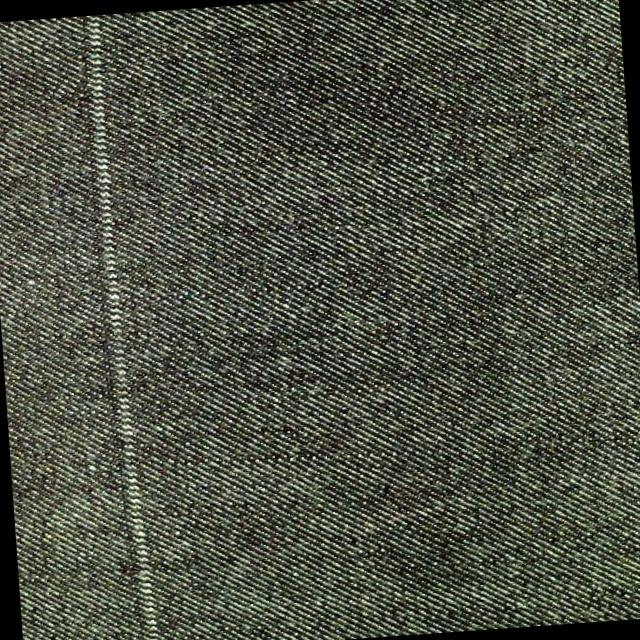Warp_Weft: (75, 13, 166, 640)
